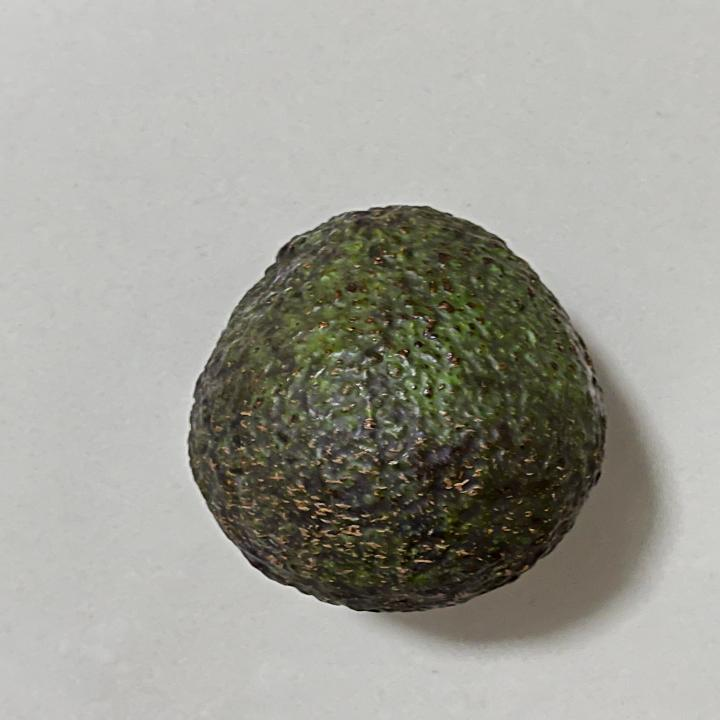Level1: (174, 191, 622, 628)
